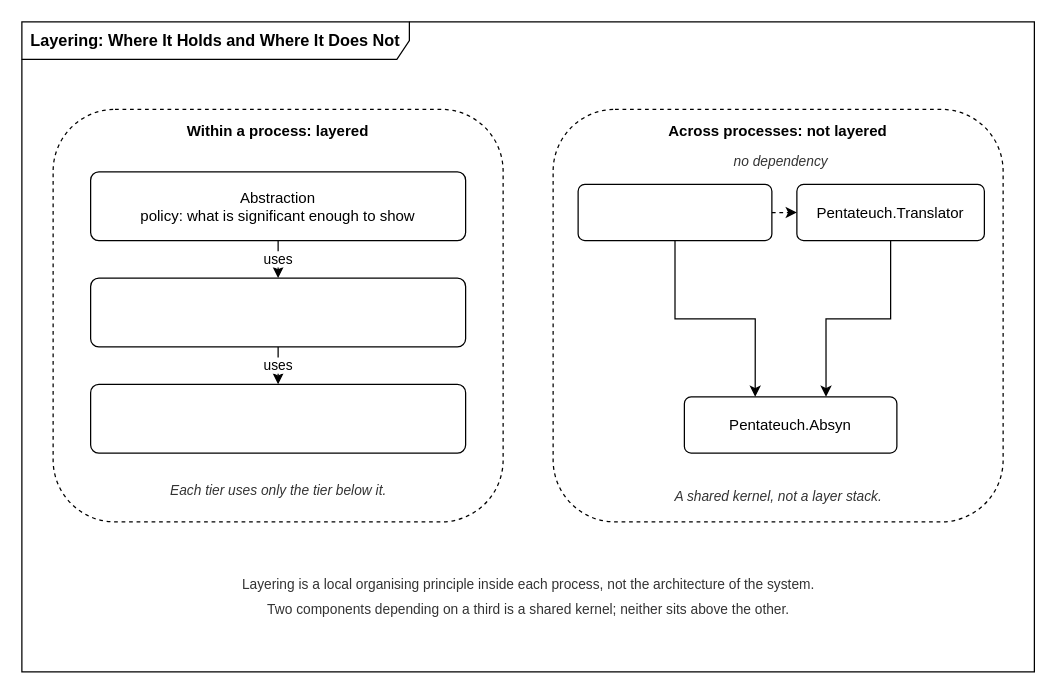
Image size: 1056x694. Some labels were removed from this diagram. The shapes that lost their labels are listed below. From the top down, each one's centre as x and y in pixels, then its label:
At (x=674, y=212): "Pentateuch.Genesys".
At (x=277, y=312): "Model Mapper / Code Extractor translation: entities and syntax trees".
At (x=277, y=418): "Repository Client / Roslyn Workspace access: the vendor APIs".
